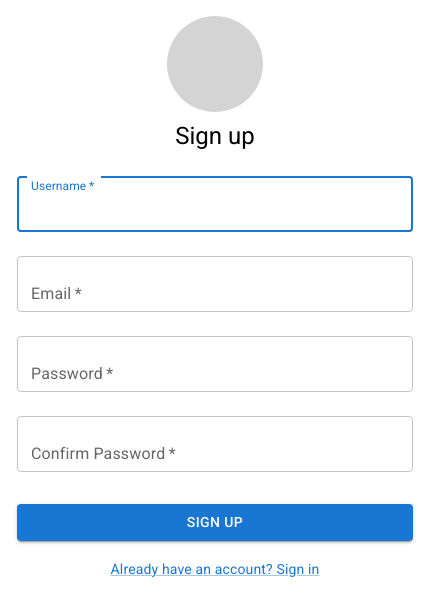
Register › shows a message when signup succeeds but sign-in fails
In the field labelled "Username *": (215, 204) top-left (17, 176), bottom-right (413, 232), type "newuser"
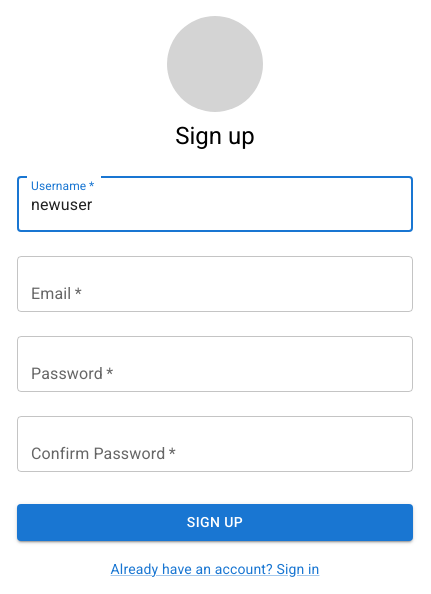
In the field labelled "Email *": (215, 284) top-left (17, 256), bottom-right (413, 312), type "new@example.com"
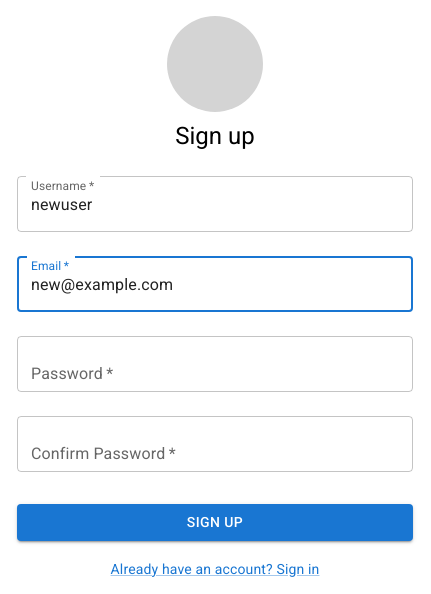
In the password field labelled "Password *": (215, 364) top-left (17, 336), bottom-right (413, 392), type "secret12"
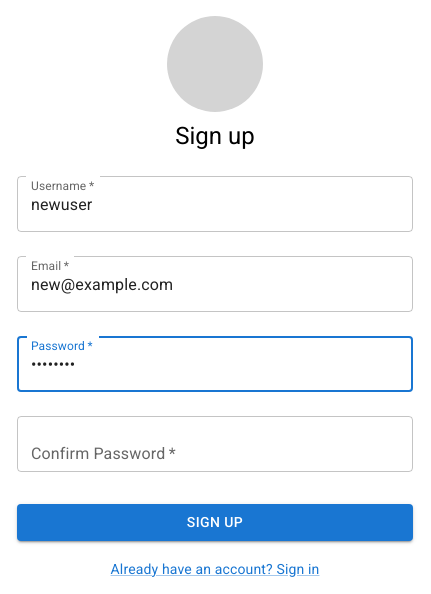
In the password field labelled "Confirm Password *": (215, 444) top-left (17, 416), bottom-right (413, 472), type "secret12"
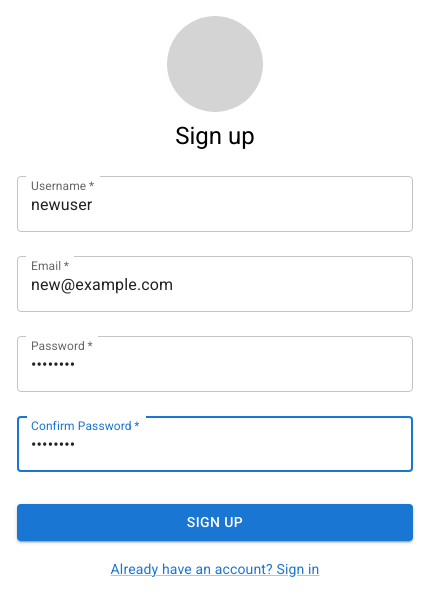
Click the button "Sign Up": (215, 522) top-left (17, 504), bottom-right (413, 540)
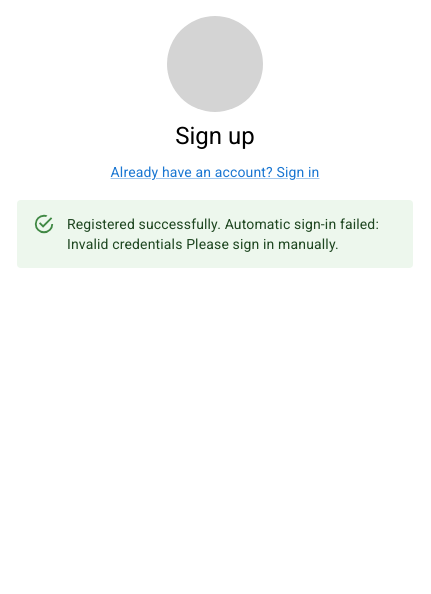
Expected: the text "please sign in manually" is shown, top-left (67, 216), bottom-right (379, 252)
